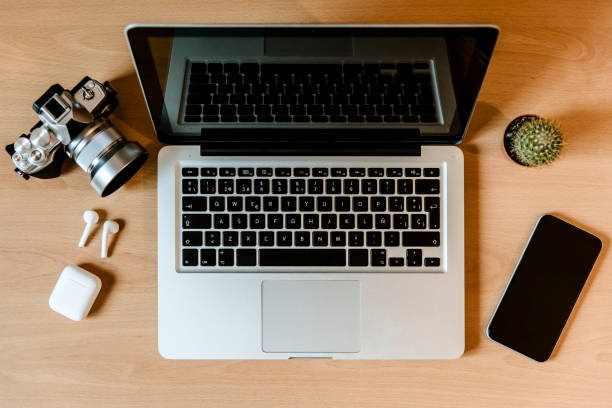keyboard: (177, 161, 446, 272)
laptop: (125, 19, 500, 362)
phone: (485, 212, 603, 363)
